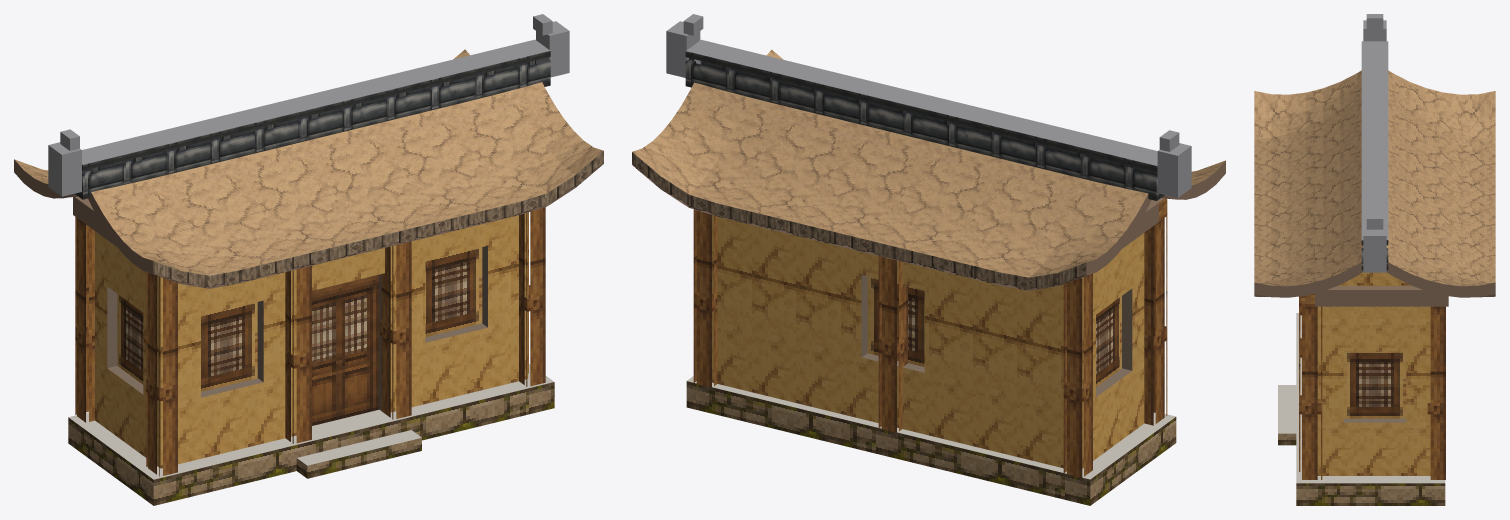
File: b_clay.glb
3 renders of one model, left to right at view 1: azimuth 30°, elevation 25°; view 2: azimuth 150°, elevation 25°; view 3: azimuth 270°, elevation 25°, orthographic. The views are drawn at different scales.
Visible parts, largest first — view 1: roof, plaster, post, ridge, stone, win, ridgeend, door, stonetop, eave, reveal, wood (+1 smaller); view 2: plaster, roof, post, ridge, stone, ridgeend, eave, win, stonetop, wood, reveal, under; view 3: roof, plaster, ridgeend, post, wood, win, stone, stonetop, reveal.
Part boxes in pixels (box(x1,y1,x2,y2)): roof: box(14, 49, 603, 275); plaster: box(95, 212, 528, 468); post: box(75, 207, 545, 476); ridge: box(75, 51, 550, 199); stone: box(68, 382, 554, 505); win: box(117, 247, 482, 391); ridgeend: box(48, 14, 569, 196); door: box(312, 274, 379, 425); stonetop: box(68, 363, 553, 479); eave: box(153, 151, 603, 287); reveal: box(107, 246, 487, 410); wood: box(14, 132, 575, 273); plaster: box(712, 215, 1144, 468); roof: box(632, 49, 1225, 277); post: box(693, 199, 1167, 477); ridge: box(685, 51, 1164, 200); stone: box(686, 381, 1176, 505); ridgeend: box(666, 14, 1191, 197); eave: box(632, 152, 1086, 289); win: box(867, 276, 1121, 386); stonetop: box(687, 376, 1175, 479); wood: box(632, 161, 1225, 278); reveal: box(861, 275, 1132, 396); under: box(632, 165, 1174, 290); roof: box(1254, 70, 1495, 286); plaster: box(1317, 272, 1430, 475); ridgeend: box(1361, 14, 1388, 272); post: box(1299, 296, 1445, 479); wood: box(1254, 262, 1495, 306); win: box(1343, 351, 1406, 418); stone: box(1278, 433, 1445, 505); stonetop: box(1278, 313, 1445, 483); reveal: box(1343, 418, 1406, 422).
Size of the model in its own units: 60.8 by 39.85 by 28.78.
14 materials, 9 textured.
